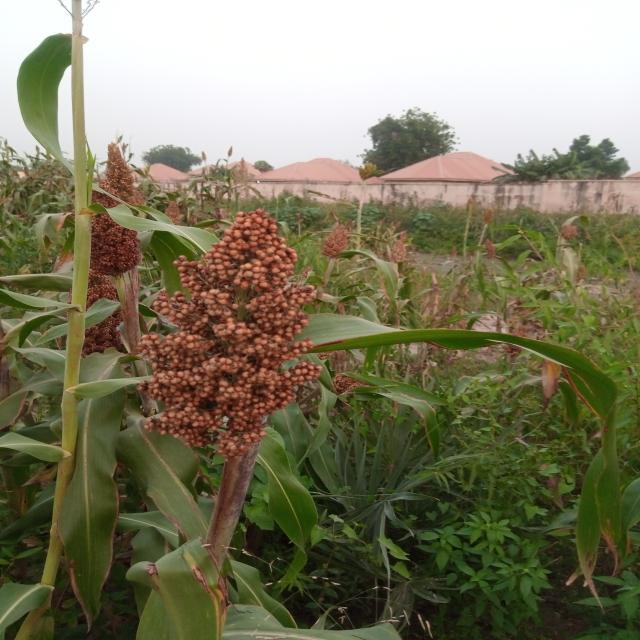RipeSorghum: (130, 180, 324, 459)
